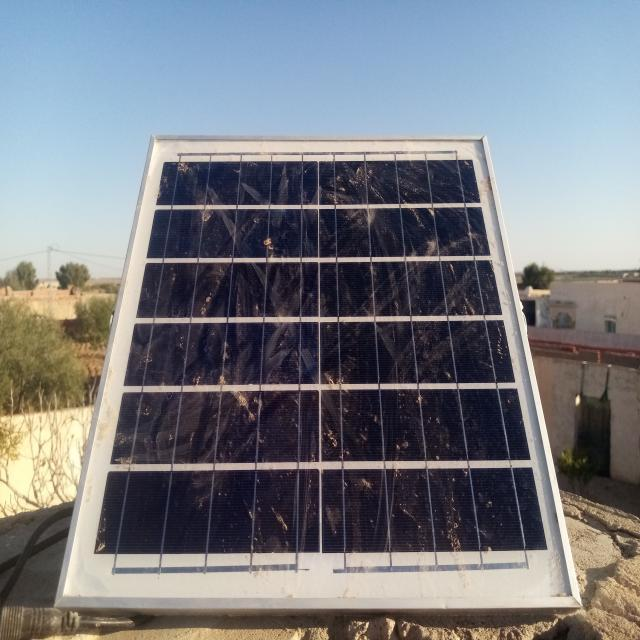faulty: (58, 137, 577, 603)
